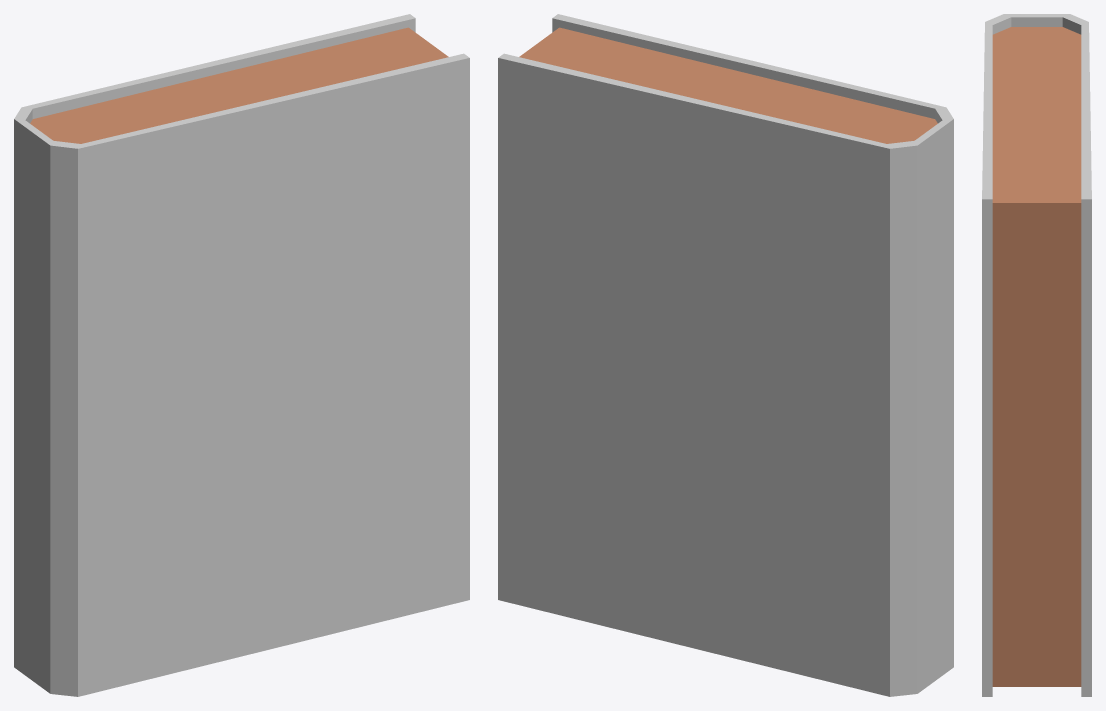
The model's file is Book.FBX.
3 renders of one model, left to right at view 1: azimuth 30°, elevation 25°; view 2: azimuth 150°, elevation 25°; view 3: azimuth 270°, elevation 25°, orthographic. The views are drawn at different scales.
Visible parts, largest first — view 1: BookCover, Book; view 2: BookCover, Book; view 3: Book, BookCover.
Boxes of the visible parts, left/top/right/bottom form: BookCover: left=14, top=14, right=469, bottom=696; Book: left=25, top=18, right=448, bottom=143; BookCover: left=498, top=14, right=953, bottom=696; Book: left=519, top=18, right=942, bottom=143; Book: left=992, top=17, right=1081, bottom=686; BookCover: left=982, top=14, right=1091, bottom=696.
Size of the model in its own units: 57.01 by 73.29 by 14.51.
